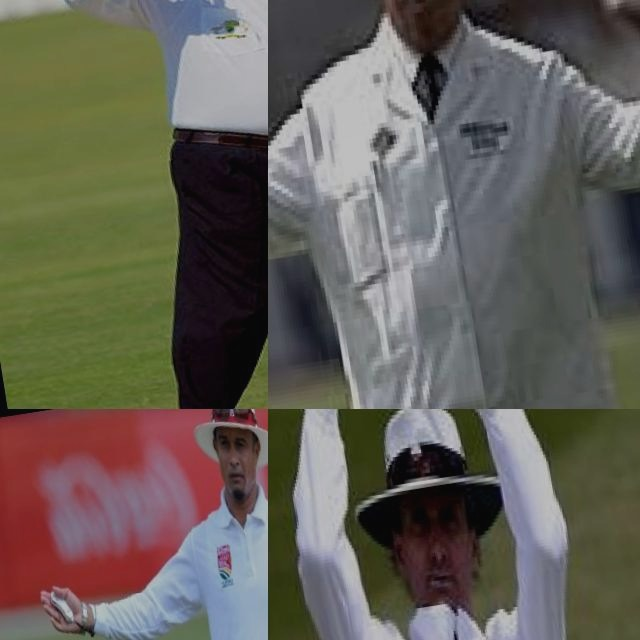Six: (0, 0, 268, 409), (268, 409, 629, 640)
Wide: (268, 0, 640, 409), (5, 409, 268, 640)
